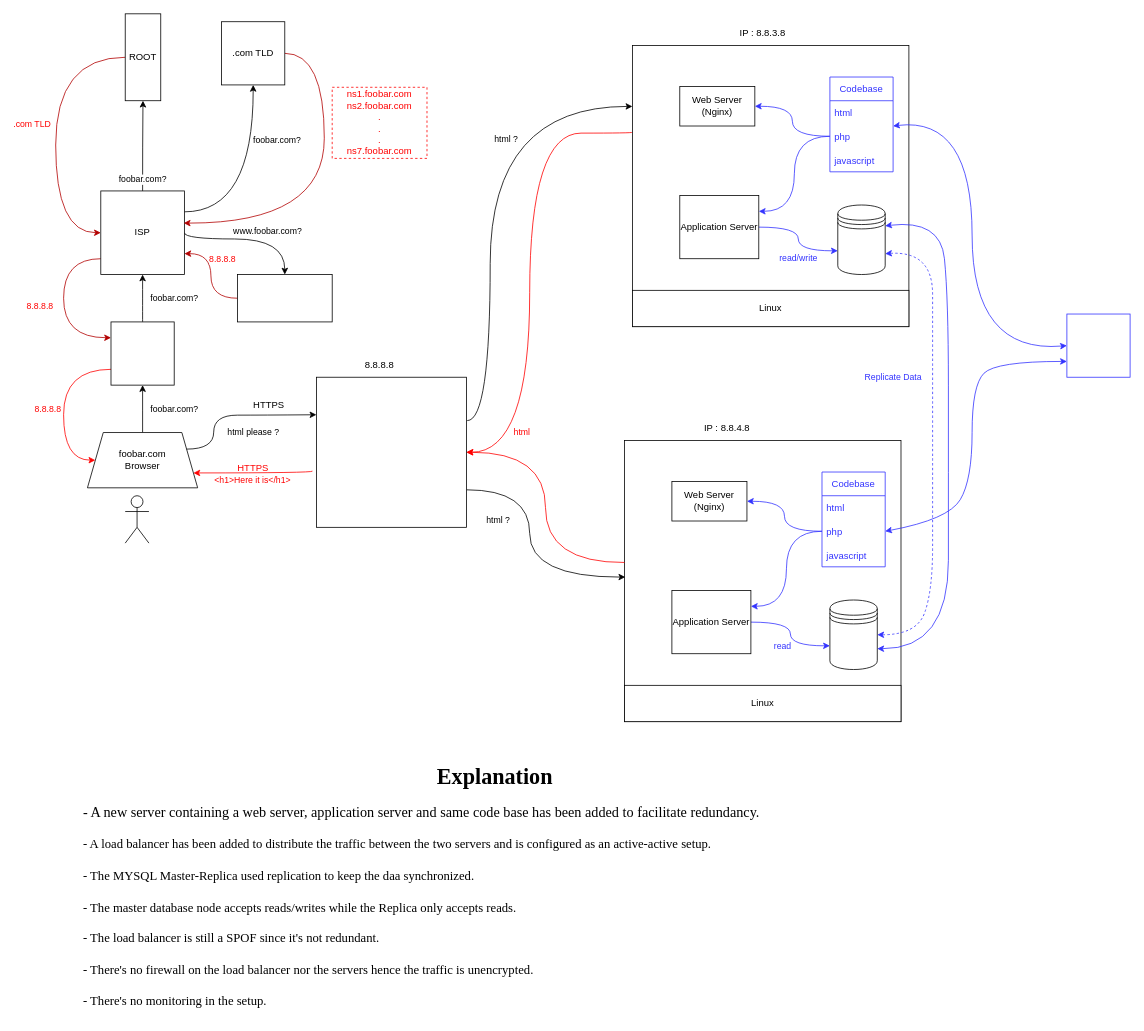
This 1144x1031 diagram has some shape labels left out. Here are the shapes that lost their labels. From the top down, the box of each, then its label:
(837, 204, 885, 275): Master MYSQL database
(237, 274, 332, 322): ns2.foobar.com
(110, 321, 174, 385): ip available locally ?
(1066, 313, 1130, 377): github
(316, 376, 466, 527): HA Proxy Load Balancer
(124, 495, 149, 543): user
(829, 599, 877, 670): MYSQL Replica databse
